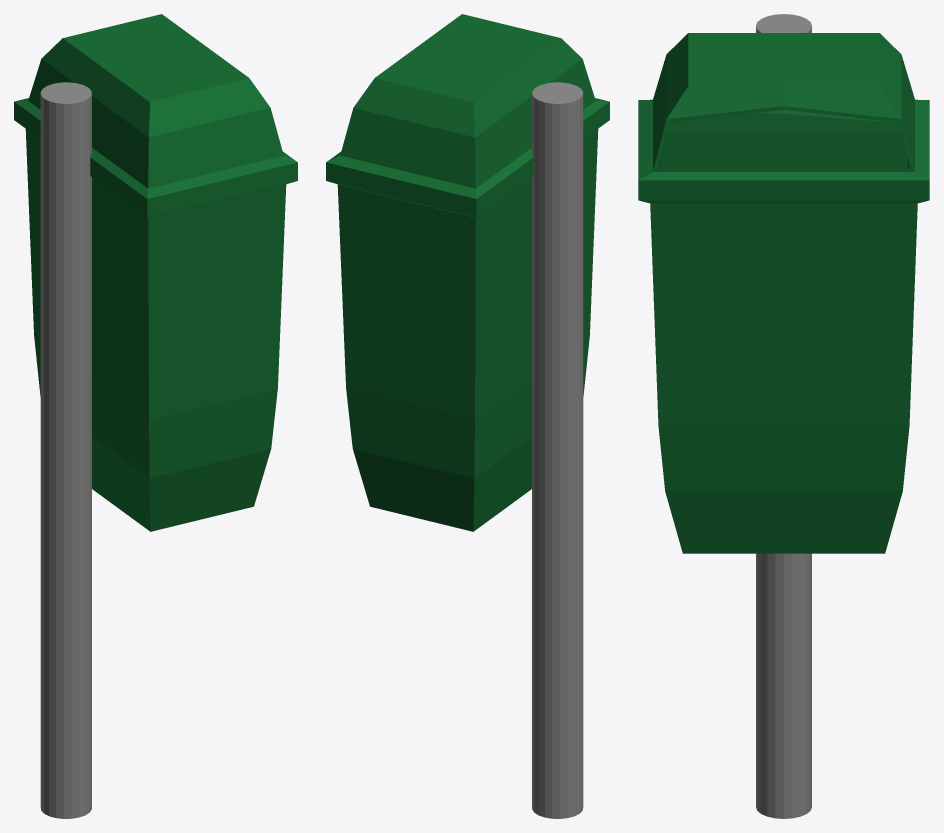
File: TrashBin.fbx
3 renders of one model, left to right at view 1: azimuth 30°, elevation 25°; view 2: azimuth 150°, elevation 25°; view 3: azimuth 270°, elevation 25°, orthographic. The views are drawn at different scales.
Visible parts, largest first — view 1: TrashBin; view 2: TrashBin; view 3: TrashBin.
Part boxes in pixels (box(x1,y1,x2,y2)): TrashBin: box(14, 14, 297, 818); TrashBin: box(326, 14, 609, 818); TrashBin: box(638, 14, 929, 818).
Size of the model in its own units: 0.3288 by 0.4055 by 1.22.
1 material, 1 textured.
